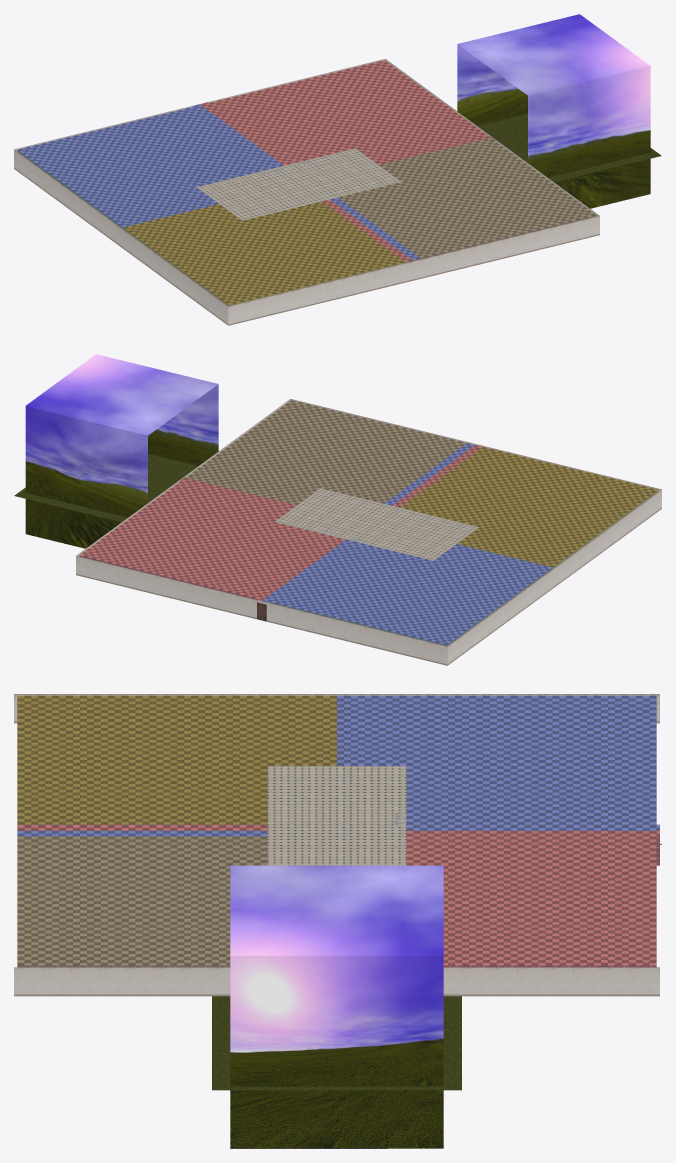
Rendered from mazemodel.glb.
The picture shows the model from 3 angles, top to bottom: view 1: azimuth 30°, elevation 25°; view 2: azimuth 150°, elevation 25°; view 3: azimuth 270°, elevation 25°; orthographic projection. The views are drawn at different scales.
Visible parts, largest first — view 1: Cube, NEFloor.001, SEFloors.001, SWFloors.001, NWFloors.001, outerwalls, centerfloor.001, NSCrossFloor.001, fakeoutside, EWCrossFloor.001, SWSection; view 2: Cube, NEFloor.001, SEFloors.001, NWFloors.001, SWFloors.001, outerwalls, centerfloor.001, NSCrossFloor.001, fakeoutside, EWCrossFloor.001, NWSection; view 3: Cube, NWFloors.001, SWFloors.001, SEFloors.001, NEFloor.001, outerwalls, centerfloor.001, NSCrossFloor.001, fakeoutside, EWCrossFloor.001, NESection.
Boxes of the visible parts, left/top/right/bottom form: Cube: left=457, top=14, right=650, bottom=208; NEFloor.001: left=209, top=60, right=485, bottom=163; SEFloors.001: left=338, top=141, right=596, bottom=258; SWFloors.001: left=128, top=201, right=404, bottom=304; NWFloors.001: left=17, top=107, right=275, bottom=223; outerwalls: left=14, top=59, right=599, bottom=325; centerfloor.001: left=196, top=148, right=401, bottom=220; NSCrossFloor.001: left=192, top=102, right=420, bottom=261; fakeoutside: left=477, top=113, right=661, bottom=181; EWCrossFloor.001: left=119, top=134, right=494, bottom=230; SWSection: left=128, top=231, right=404, bottom=306; Cube: left=25, top=354, right=218, bottom=548; NEFloor.001: left=79, top=481, right=337, bottom=598; SEFloors.001: left=190, top=400, right=466, bottom=503; NWFloors.001: left=271, top=541, right=547, bottom=644; SWFloors.001: left=400, top=447, right=658, bottom=563; outerwalls: left=76, top=399, right=661, bottom=665; centerfloor.001: left=274, top=488, right=479, bottom=560; NSCrossFloor.001: left=254, top=443, right=482, bottom=602; fakeoutside: left=14, top=453, right=198, bottom=522; EWCrossFloor.001: left=181, top=474, right=556, bottom=570; NWSection: left=270, top=571, right=547, bottom=646; Cube: left=230, top=865, right=443, bottom=1148; NWFloors.001: left=351, top=695, right=656, bottom=824; SWFloors.001: left=17, top=695, right=322, bottom=824; SEFloors.001: left=17, top=836, right=267, bottom=965; NEFloor.001: left=406, top=836, right=656, bottom=965; outerwalls: left=14, top=694, right=659, bottom=996; centerfloor.001: left=267, top=766, right=406, bottom=865; NSCrossFloor.001: left=17, top=824, right=659, bottom=836; fakeoutside: left=212, top=996, right=461, bottom=1090; EWCrossFloor.001: left=323, top=695, right=350, bottom=765; NESection: left=443, top=836, right=659, bottom=967.
Size of the model in its own units: 272 by 66.68 by 203.
39 materials, 39 textured.
